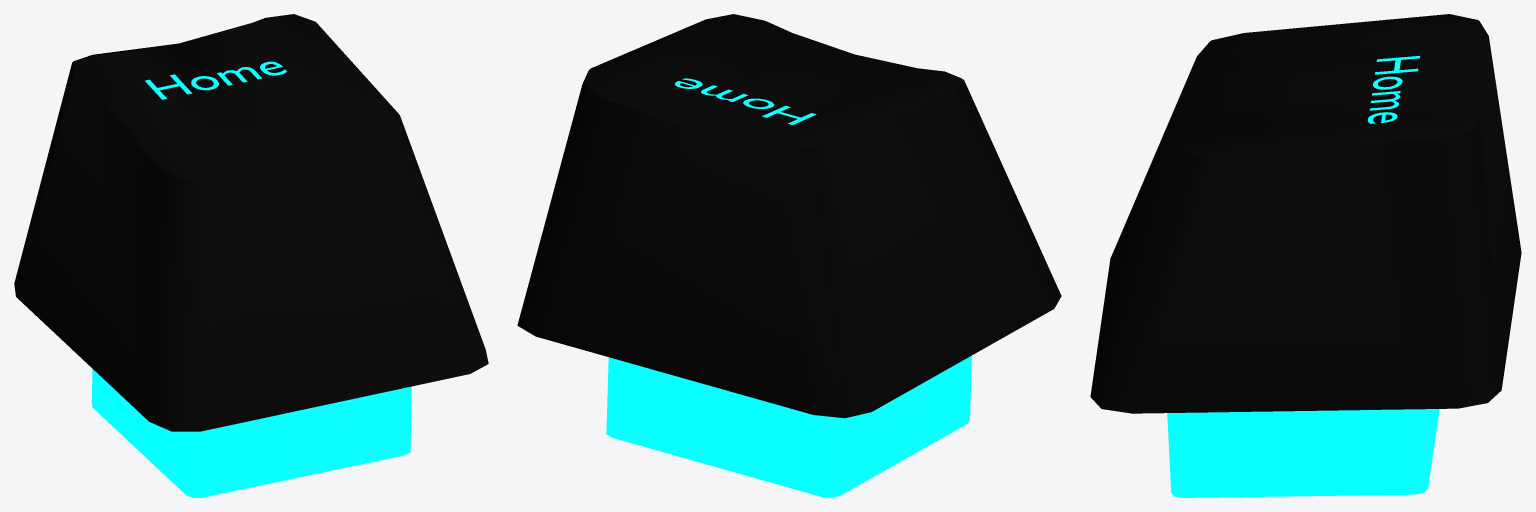
The model's file is key_home-ytDx2Th3.glb.
3 renders of one model, left to right at view 1: azimuth 30°, elevation 25°; view 2: azimuth 150°, elevation 25°; view 3: azimuth 270°, elevation 25°, orthographic. The views are drawn at different scales.
Parts seen in each view (by area): view 1: StudyShelf_1073; view 2: StudyShelf_1073; view 3: StudyShelf_1073.
Part boxes in pixels (bbox=[...]): StudyShelf_1073: bbox=[14, 14, 488, 497]; StudyShelf_1073: bbox=[517, 14, 1061, 497]; StudyShelf_1073: bbox=[1090, 14, 1521, 497].
Size of the model in its own units: 4.35 by 4.14 by 4.35.
